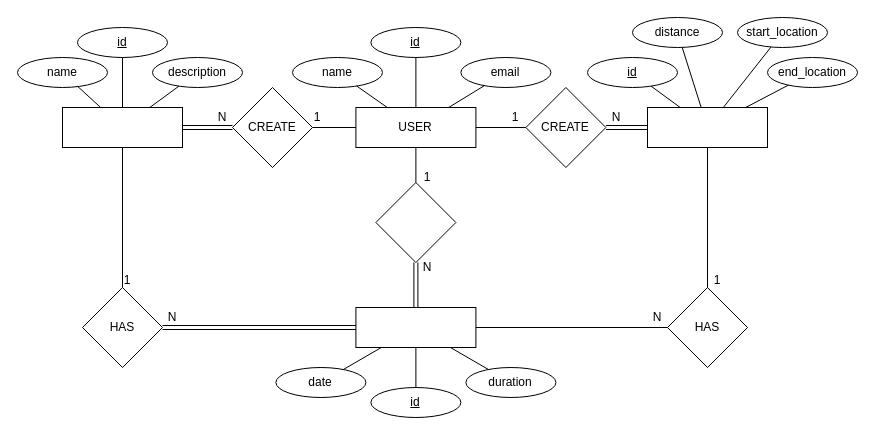
This 875x435 diagram has some shape labels left out. Here are the shapes that lost their labels. From the top down, the box of each, then its label:
(62, 106, 182, 148): SPORT
(646, 106, 768, 148): ROUTE
(375, 182, 456, 262): PRATICE
(355, 306, 476, 348): ACTIVITY
